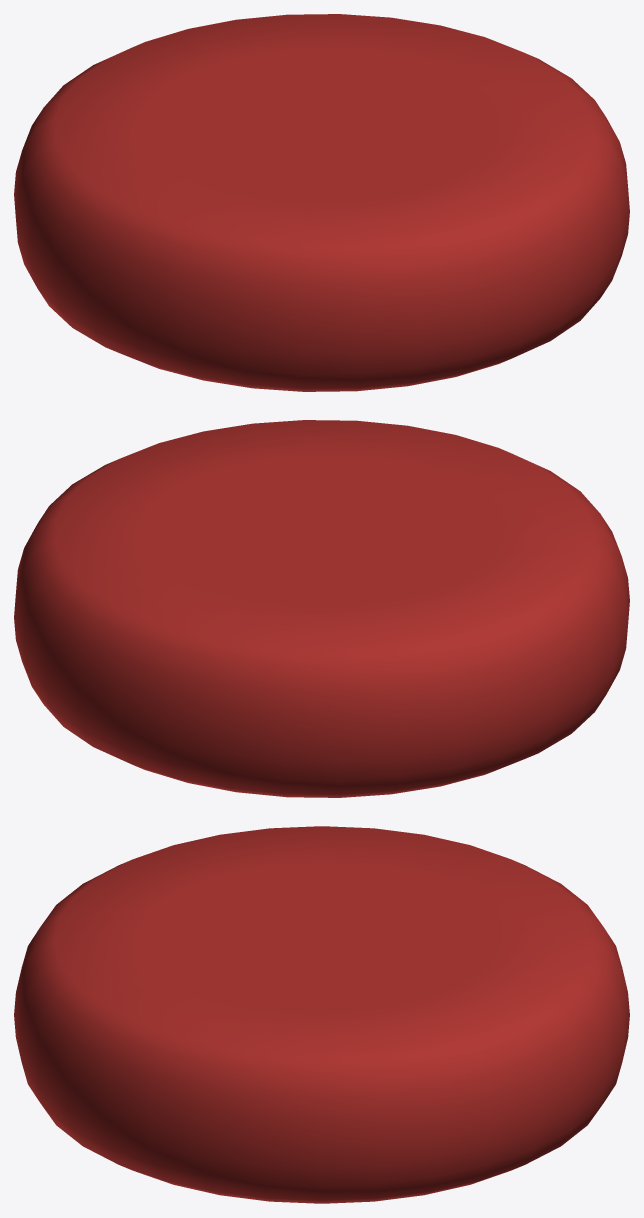
Rendered from bouncy_wall-round2.fbx.
The picture shows the model from 3 angles, top to bottom: view 1: azimuth 30°, elevation 25°; view 2: azimuth 150°, elevation 25°; view 3: azimuth 270°, elevation 25°; orthographic projection.
Visible parts, largest first — view 1: bouncyBlob2; view 2: bouncyBlob2; view 3: bouncyBlob2.
Part boxes in pixels (box(x1,y1,x2,y2)): bouncyBlob2: box(14, 14, 629, 391); bouncyBlob2: box(14, 420, 629, 797); bouncyBlob2: box(14, 826, 629, 1203).
Bounding box in the file's own units: 183 × 50 × 183.
